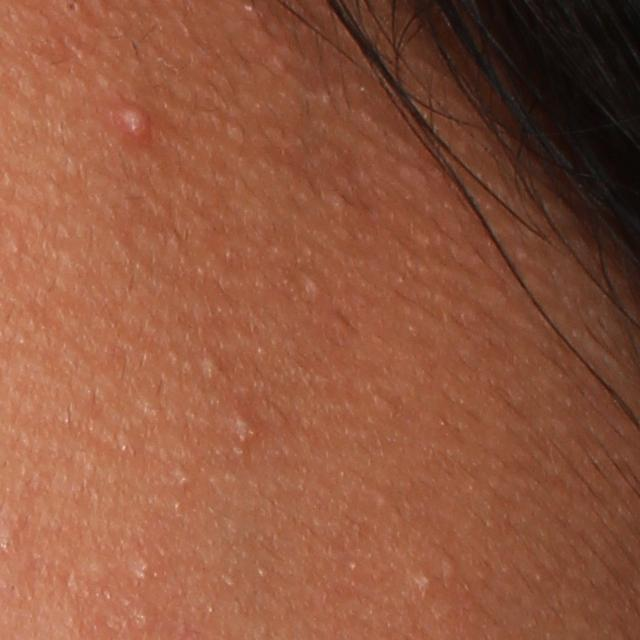comedo: (199, 352, 222, 379), (440, 556, 463, 583), (411, 568, 434, 591), (171, 464, 192, 489), (301, 271, 322, 294)
papule: (116, 98, 152, 139)
